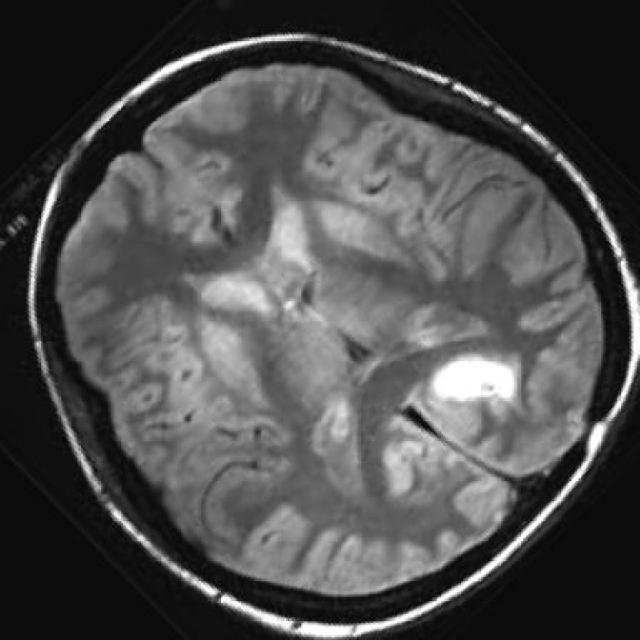Brain-Tumor: (422, 345, 529, 409)
